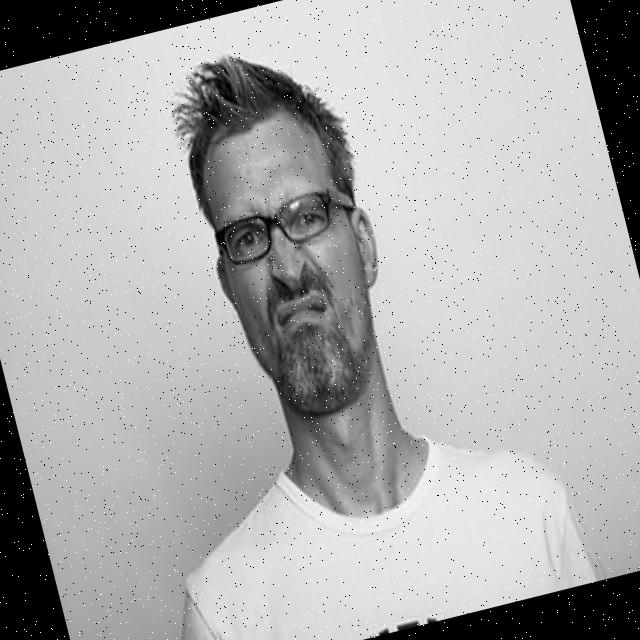Disgust: (192, 107, 396, 428)
